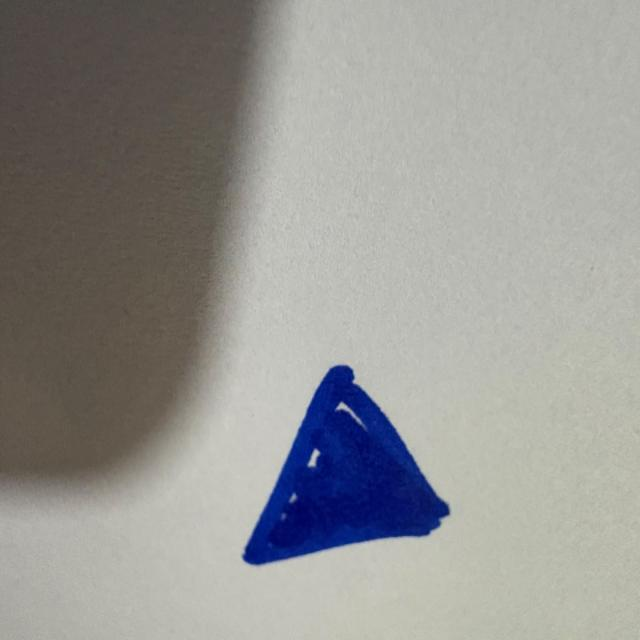Triangle: (243, 365, 450, 565)
